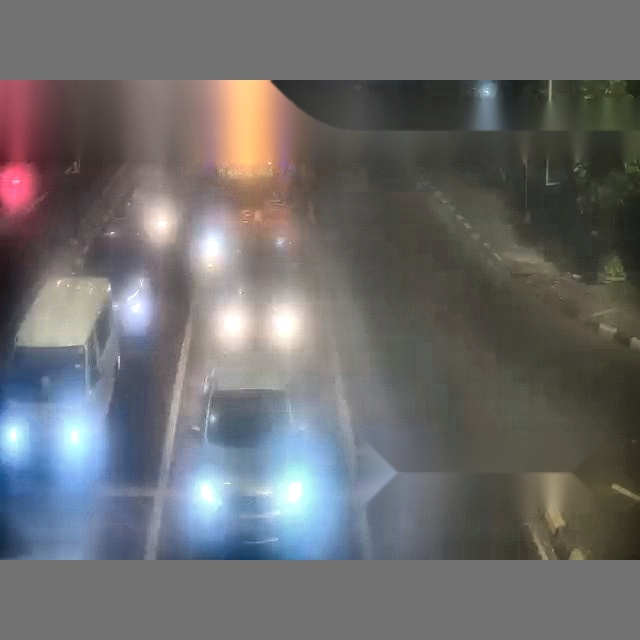Motor: (141, 197, 178, 258)
Truk: (0, 80, 66, 232)
